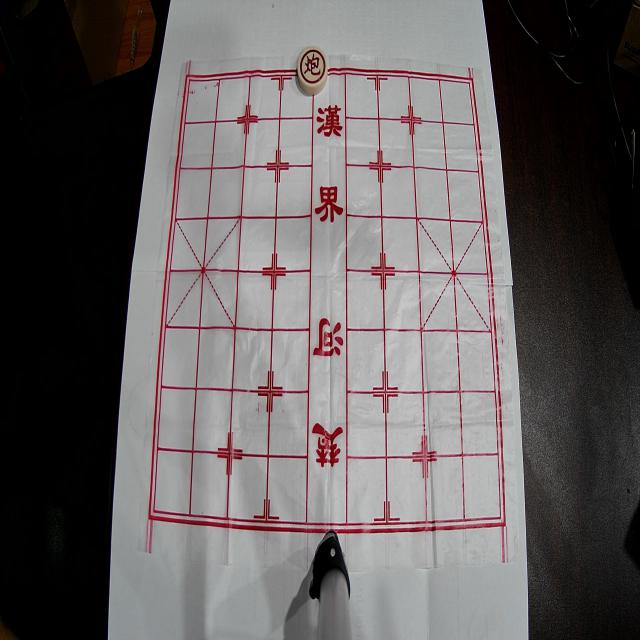red-cannon: (298, 46, 328, 94)
